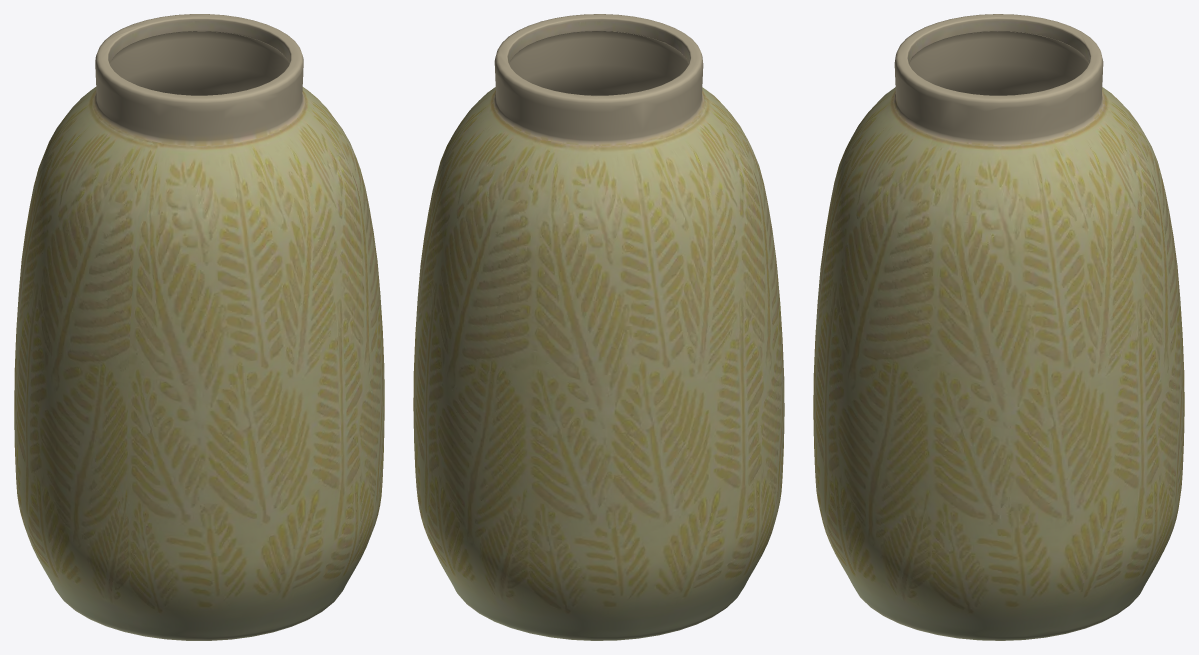
3 renders of one model, left to right at view 1: azimuth 30°, elevation 25°; view 2: azimuth 150°, elevation 25°; view 3: azimuth 270°, elevation 25°, orthographic.
Visible parts, largest first — view 1: RootNode; view 2: RootNode; view 3: RootNode.
Boxes of the visible parts, x1,y1,x2,y2 form: RootNode: (14, 14, 384, 640); RootNode: (413, 14, 784, 640); RootNode: (813, 14, 1184, 640).
Bounding box in the file's own units: 0.1722 × 0.2696 × 0.1722.
Materials: 1 (1 with a texture image).
